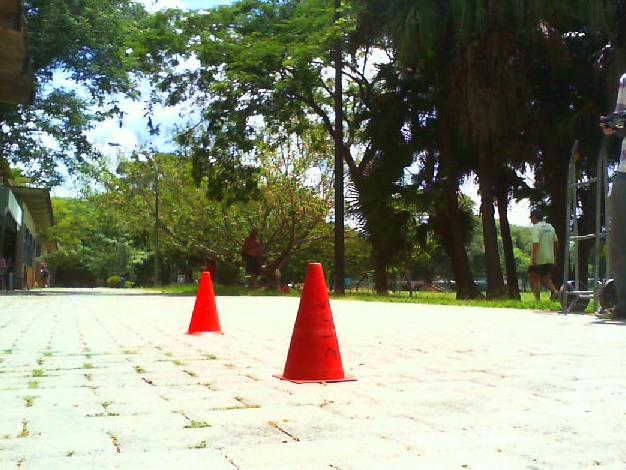0 cone: (272, 264, 357, 384), (186, 272, 224, 336)
